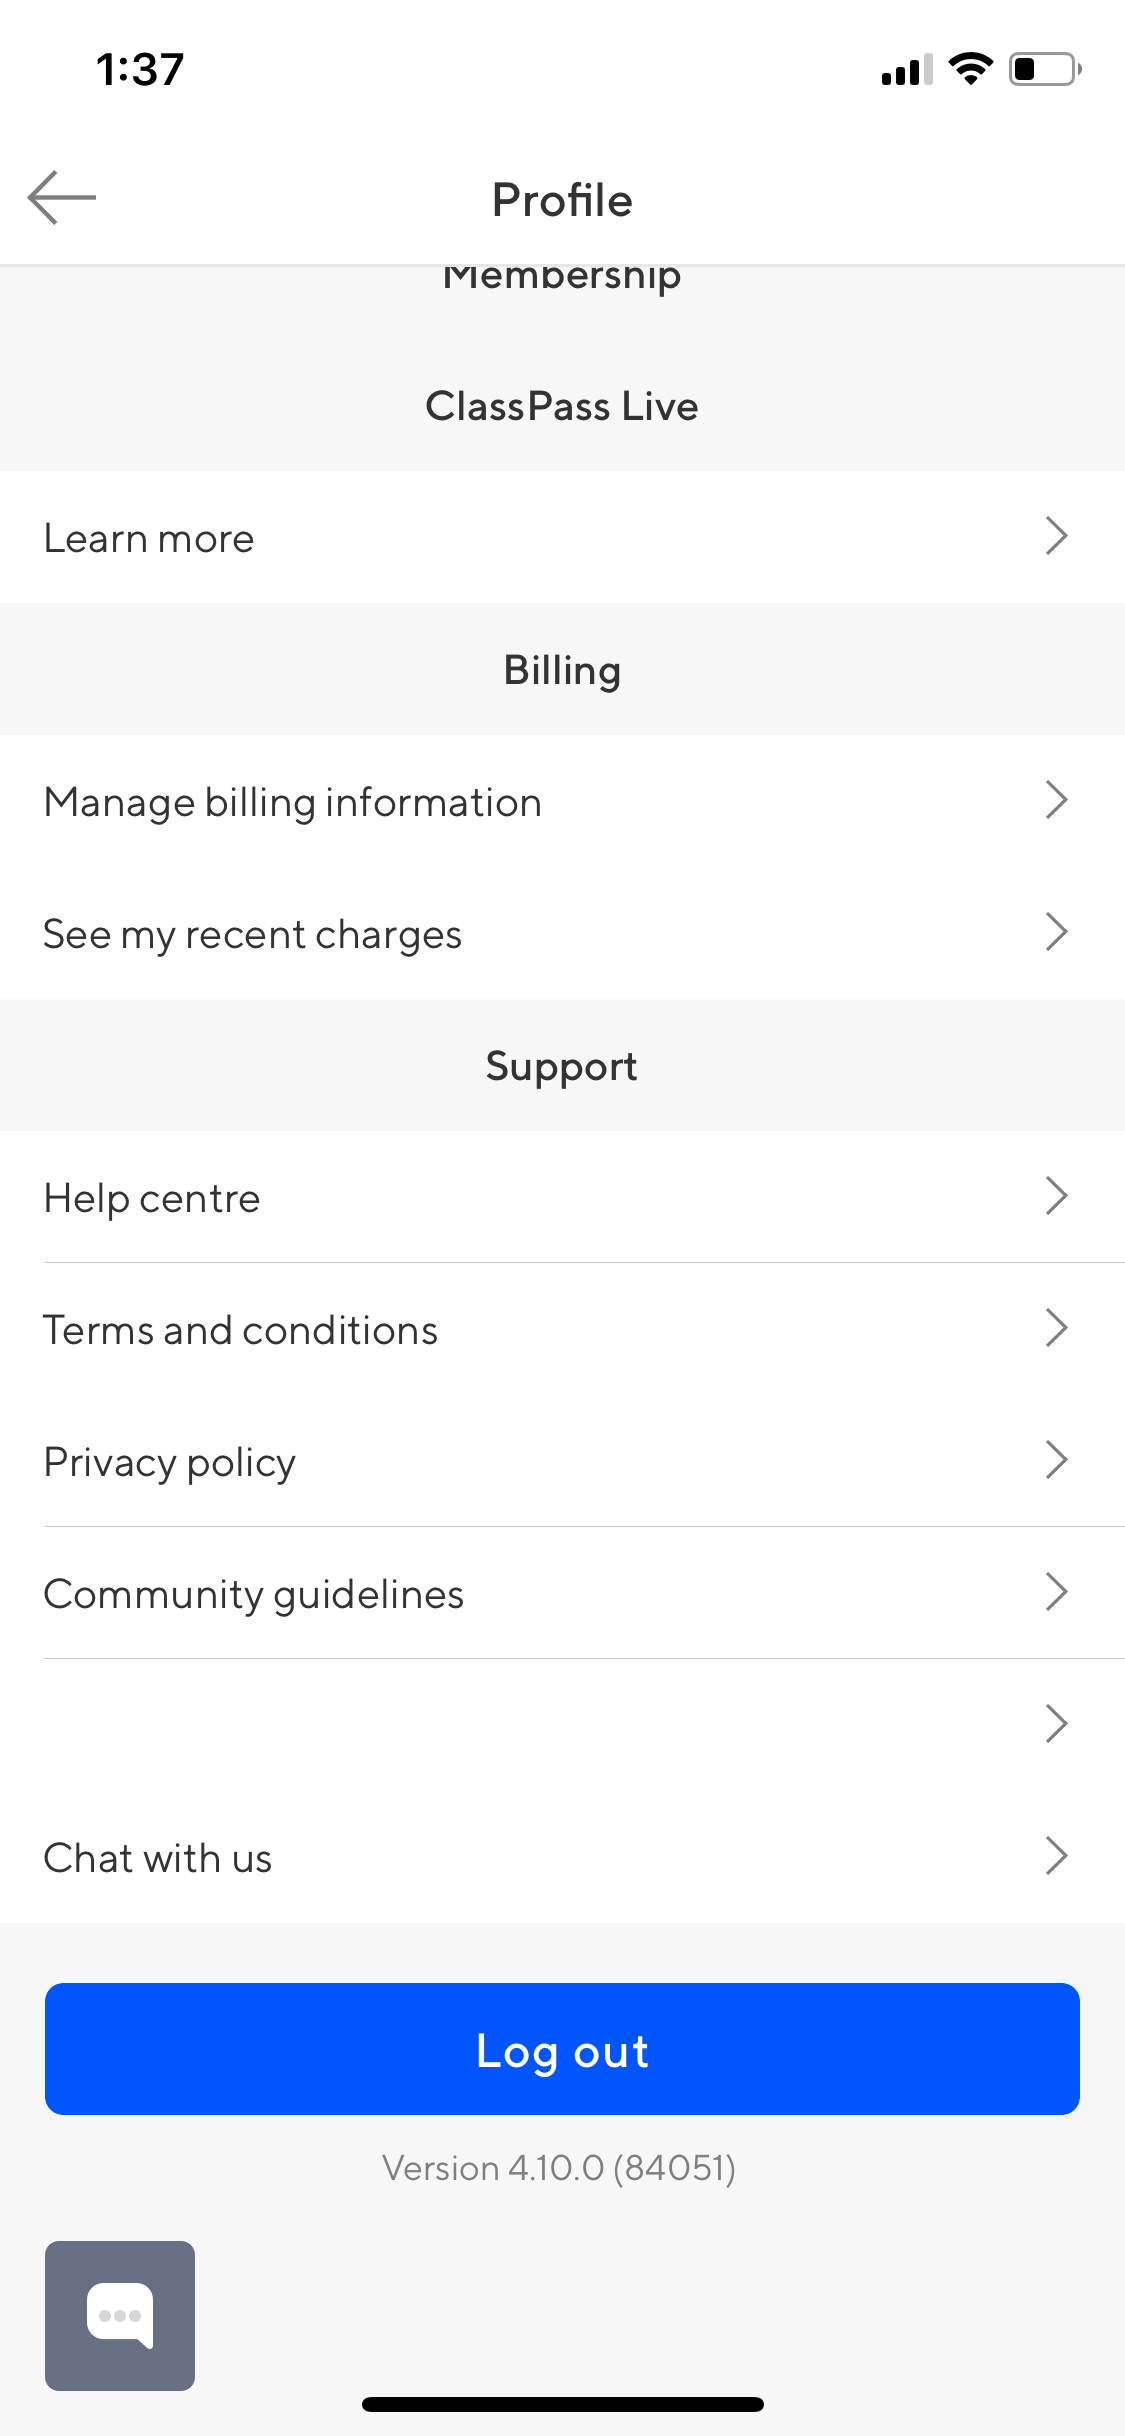Buttons: (36, 1962, 1108, 2128), (2, 137, 129, 255)
